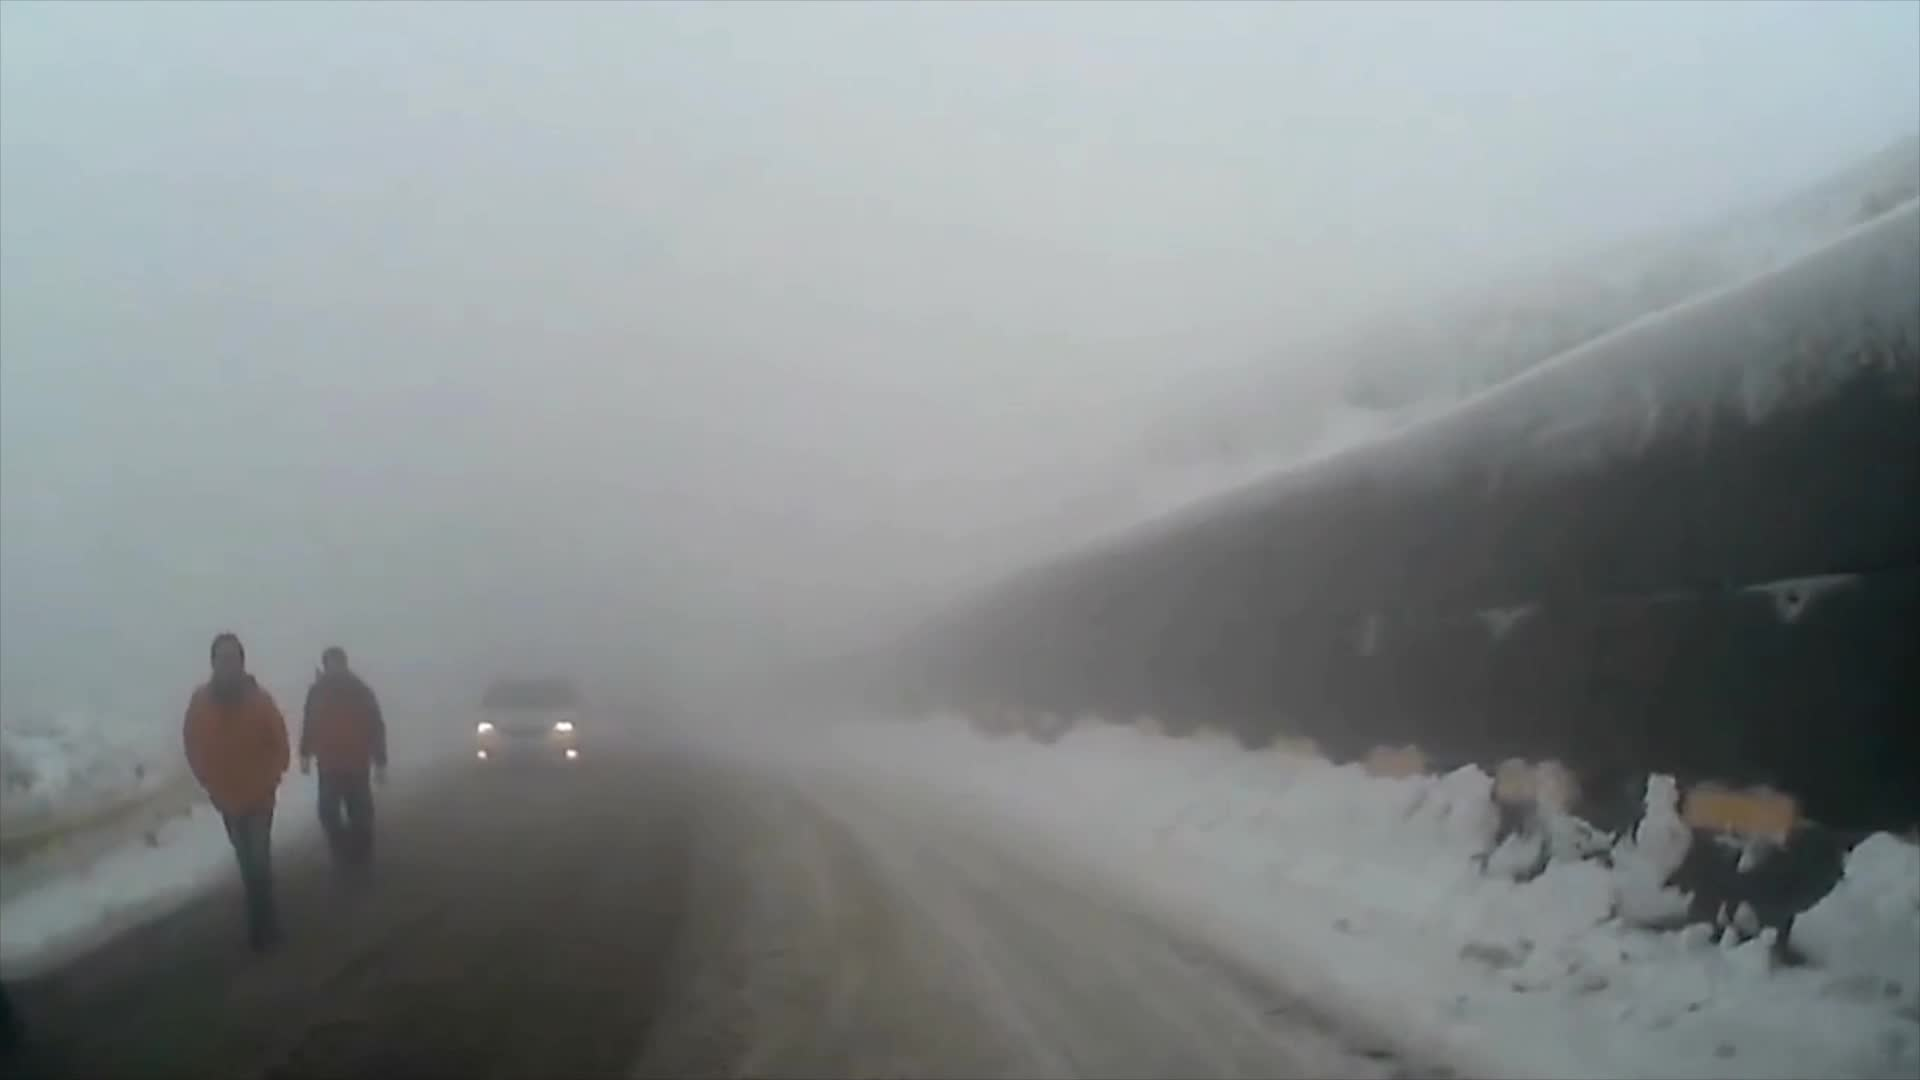pedestrian: (185, 630, 294, 953), (299, 646, 385, 882)
vehicle: (470, 670, 584, 771)
